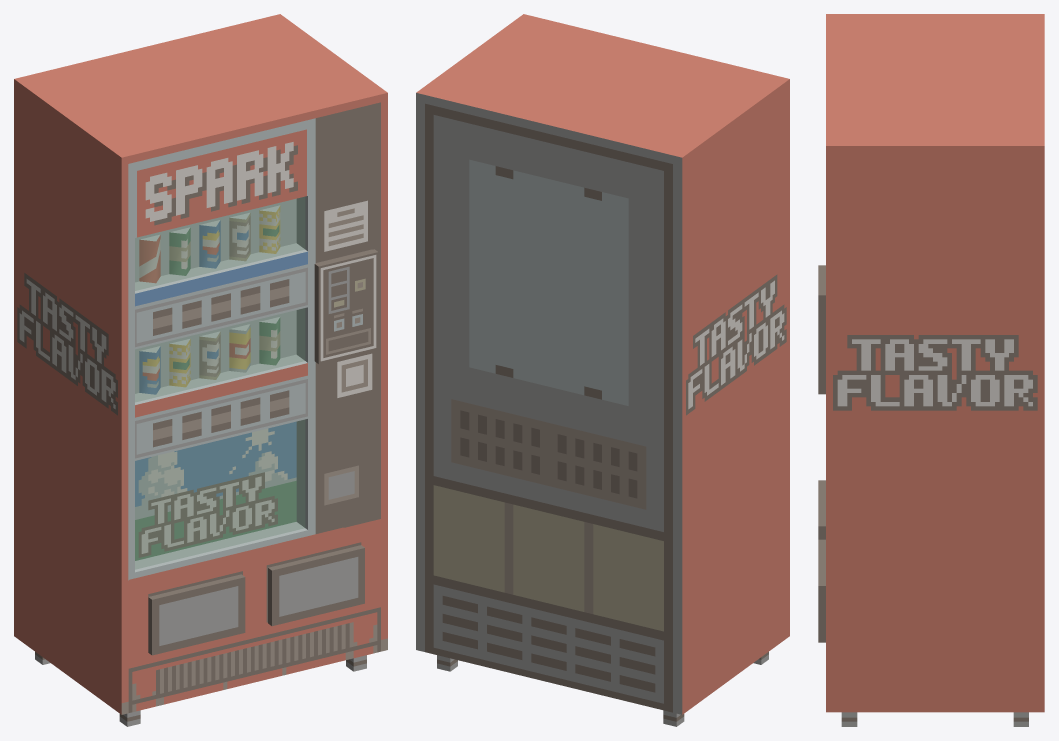
Rendered from 0284_Vending_Machine.glb.
The picture shows the model from 3 angles, left to right: view 1: azimuth 30°, elevation 25°; view 2: azimuth 150°, elevation 25°; view 3: azimuth 270°, elevation 25°; orthographic projection.
Visible parts, largest first — view 1: part_0; view 2: part_0; view 3: part_0.
Part boxes in pixels (left/top/right/bottom): part_0: left=14, top=14, right=387, bottom=726; part_0: left=416, top=14, right=789, bottom=726; part_0: left=818, top=14, right=1044, bottom=726.
Bounding box in the file's own units: 1 × 2.08 × 0.725.
1 material, 1 textured.
